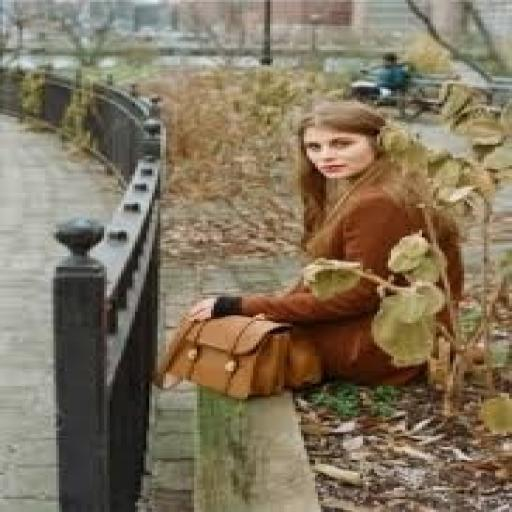sitting: (180, 98, 467, 390), (346, 50, 414, 102)
